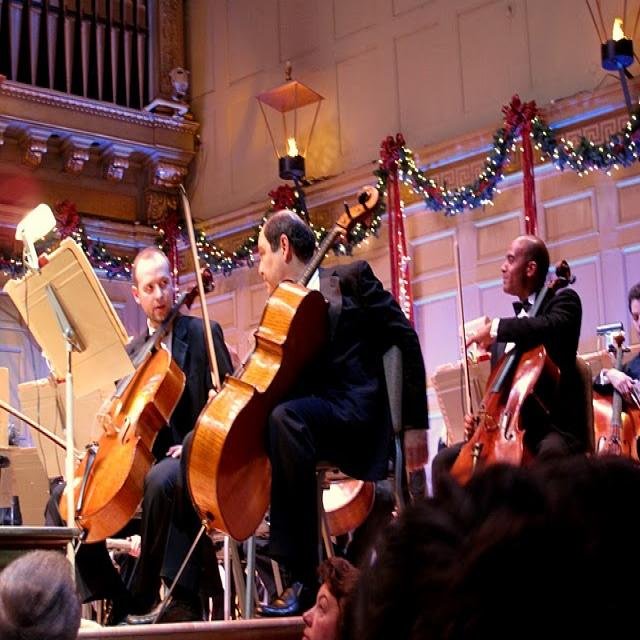cello: (189, 181, 383, 540), (61, 266, 213, 539), (450, 258, 576, 499), (583, 329, 640, 466)
